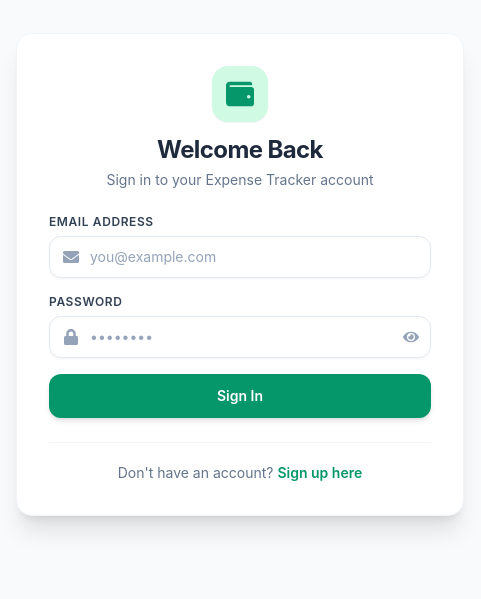
Test case: LoginForm / LoginPage Component › validates invalid email format and displays error alert without submitting
// Provide malformed email without @ or domain
Type "not-a-valid-email" into the field labelled "Email Address".
click(240, 256); type("not-a-valid-email")  # box [49, 236, 431, 278]
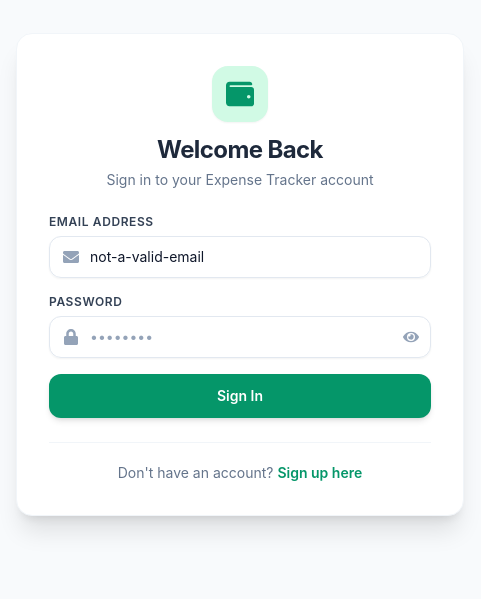
// Provide valid password
Type "Secret123!" into the password field labelled "Password".
click(240, 336); type("Secret123!")  # box [49, 316, 431, 358]
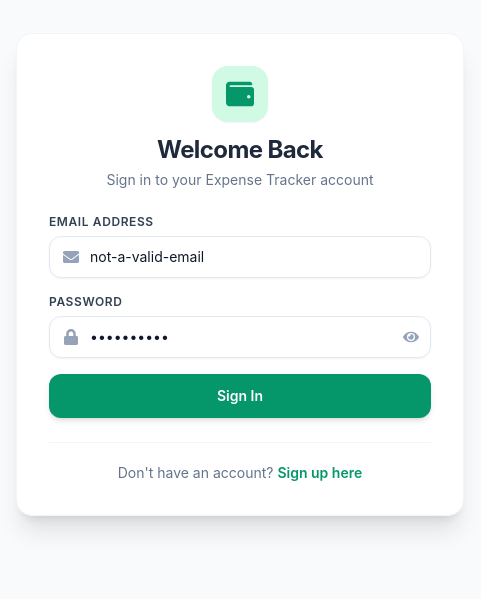
// Submit form
Click the button "Sign In".
click(240, 396)  # box [49, 374, 431, 418]
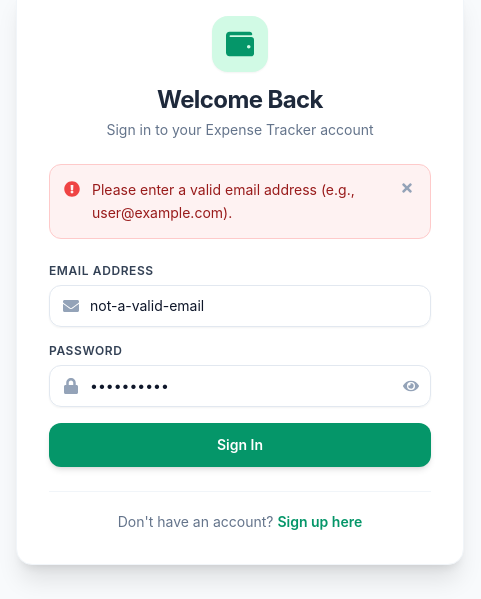
expect the message "Please enter a valid email address (e.g., user@example.com)." is shown: met, box [49, 164, 431, 239]
expect the text "Please enter a valid email address (e.g., user@example.com)." is shown: met, box [92, 179, 382, 224]
